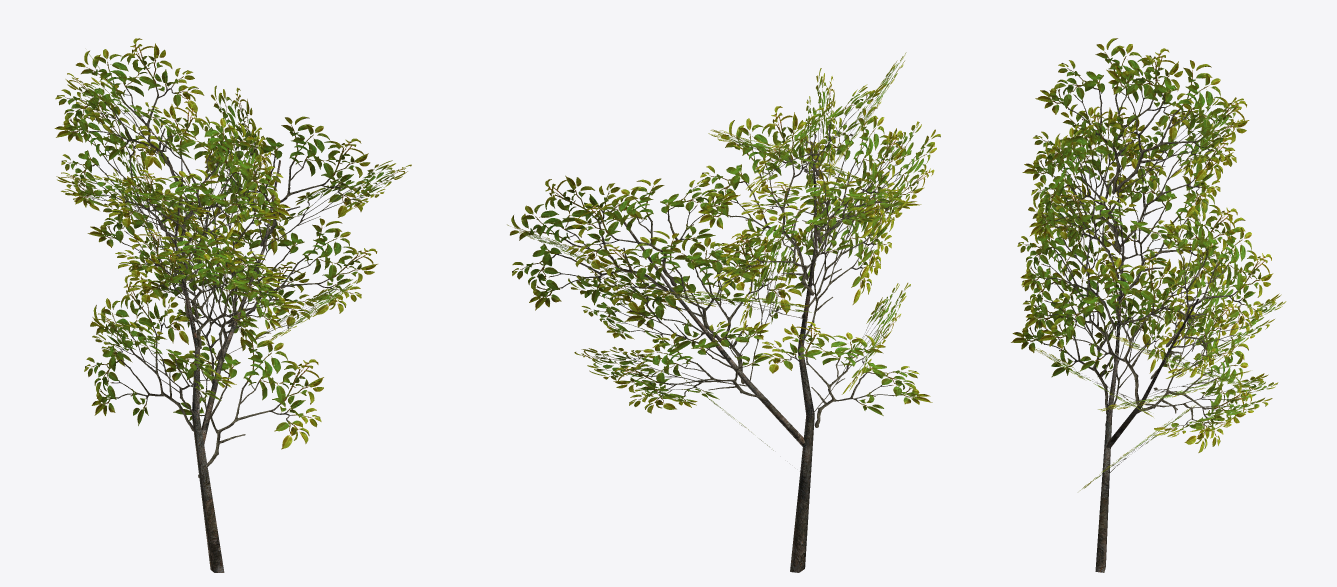
Rendered from MainCity_GuanMu_03.fbx.
3 views of the same model, side by side, from view 1: azimuth 30°, elevation 25°; view 2: azimuth 150°, elevation 25°; view 3: azimuth 270°, elevation 25° (orthographic). The views are drawn at different scales.
Visible parts, largest first — view 1: MainCity_GuanMu_03; view 2: MainCity_GuanMu_03; view 3: MainCity_GuanMu_03.
Boxes of the visible parts, x1,y1,x2,y2 form: MainCity_GuanMu_03: (54,38,411,572); MainCity_GuanMu_03: (507,52,940,572); MainCity_GuanMu_03: (1011,38,1286,572).
Size of the model in its own units: 318 by 407 by 246.
Materials: 1 (1 with a texture image).
